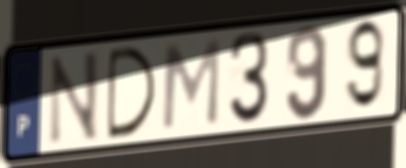3: (226, 30, 272, 128)
9: (284, 22, 330, 124), (341, 18, 387, 116)
D: (106, 44, 160, 143)
M: (159, 36, 223, 133)
N: (45, 47, 101, 149)
